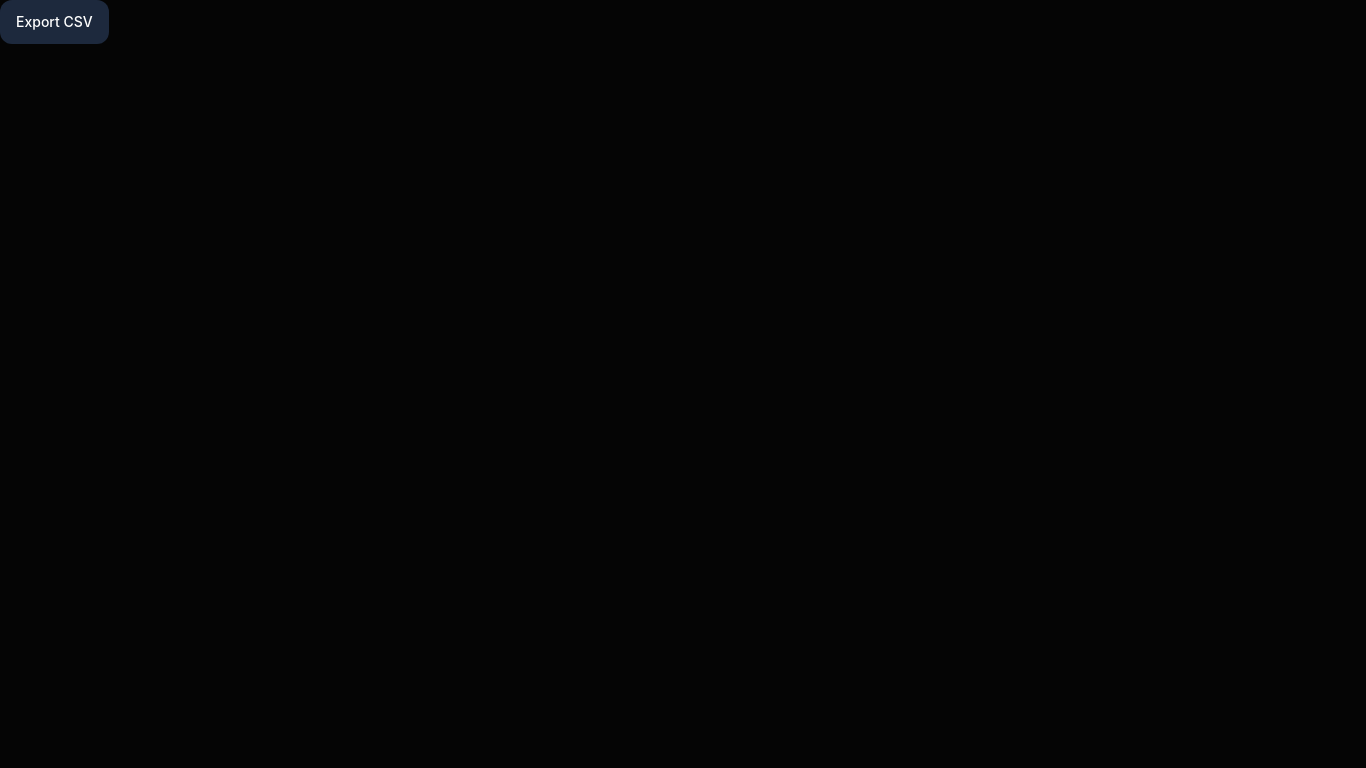
Test: export preview › lists neutralized cells before downloading
Click the button "Export CSV" at (54, 22), box [0,0,109,44]
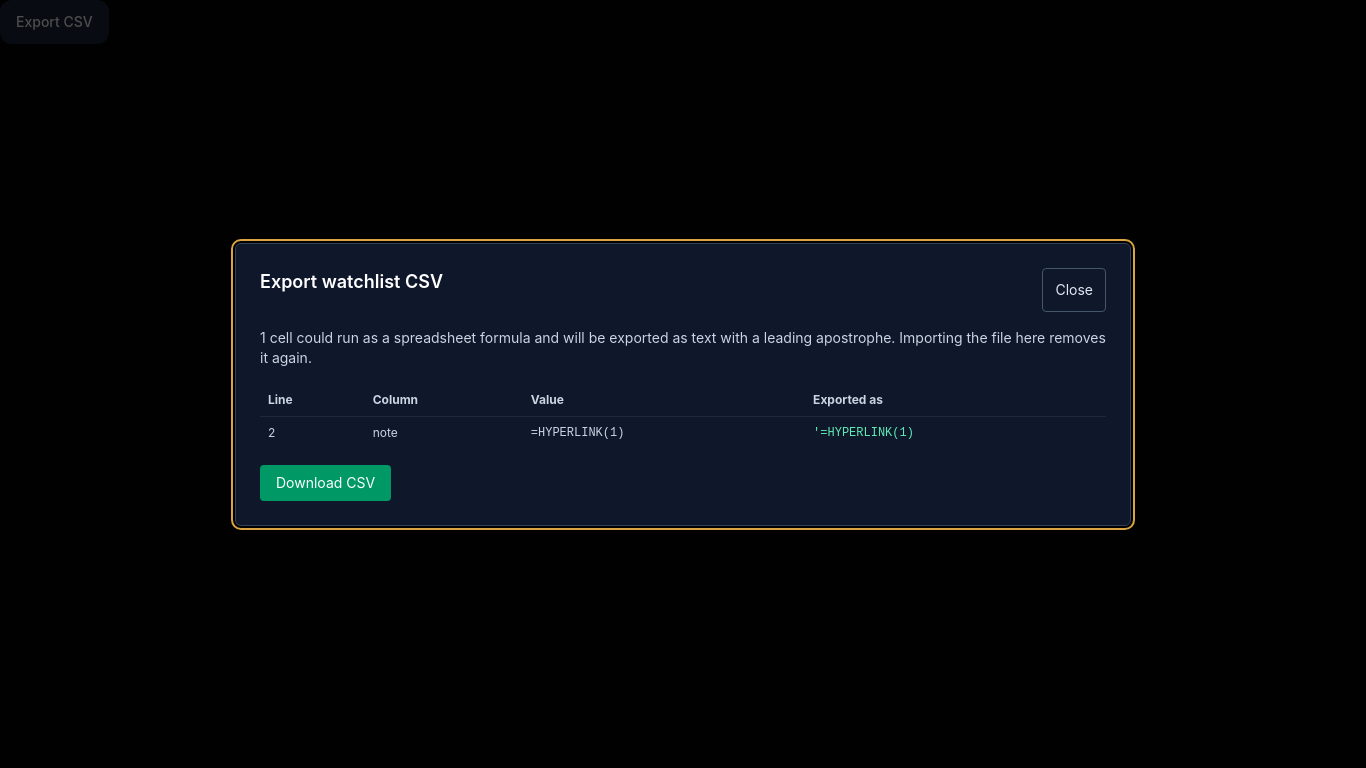
Expected: the text "=HYPERLINK(1)" is shown, [523,416,805,448]
Expected: the text "'=HYPERLINK(1)" is shown, [805,416,1106,448]
